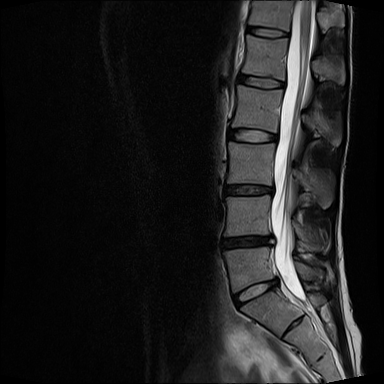Degenerative Disc Disease (DDD): (218, 230, 284, 256)
Lumbar Disc Bulge (LDB): (231, 272, 287, 312), (219, 181, 278, 200)
Normal IVD: (225, 123, 283, 147), (236, 68, 288, 94), (243, 23, 292, 41)
Spinal Stenosis (SS): (267, 271, 283, 293), (266, 227, 281, 250), (266, 180, 279, 199)
